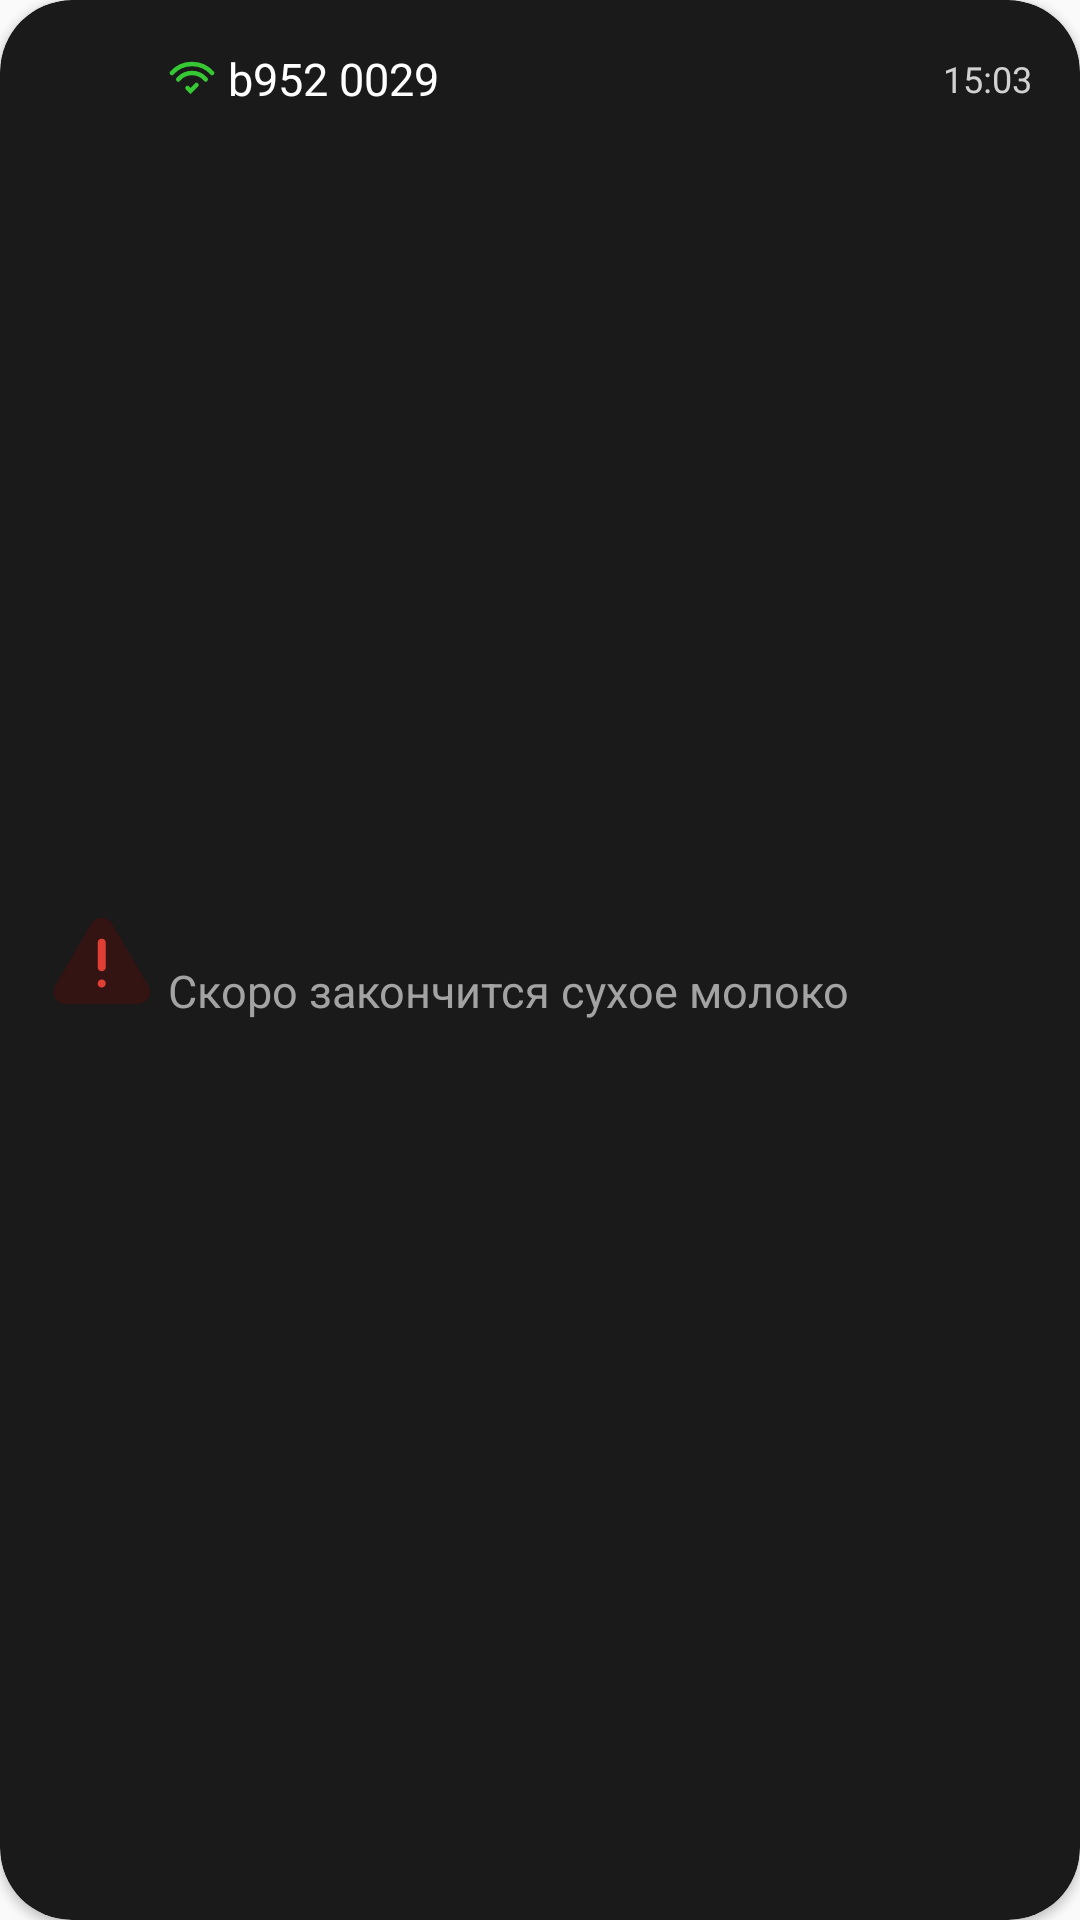

Icons on this 1080 x 1920 Android screen, each with the point to tap as point (x, y):
basic error: point (101, 961)
signal online: point (192, 77)
